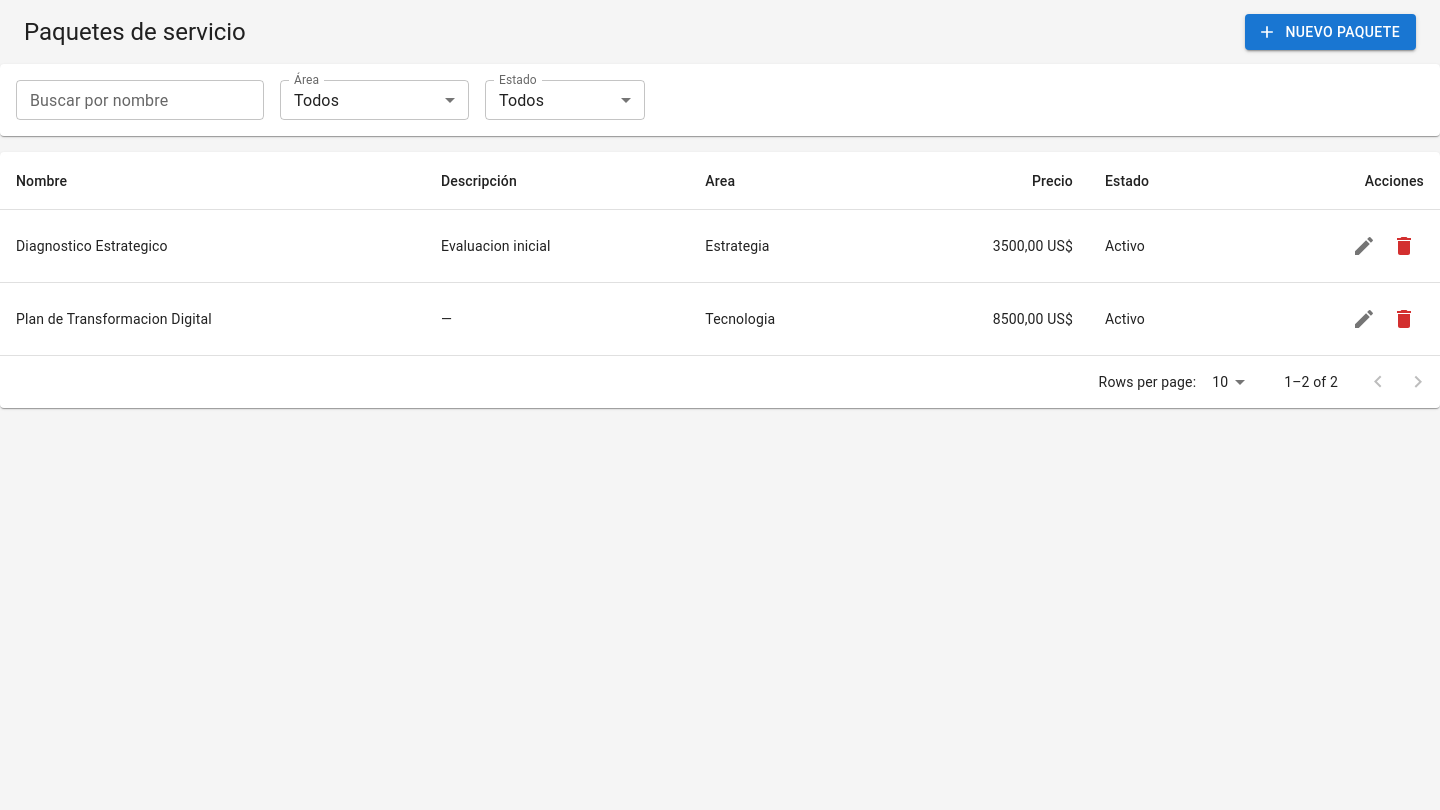
Test: PaquetesPage › shows an error toast when deleting a paquete fails
The width and height of the screenshot is (1440, 810).
Expected: the text "Diagnostico Estrategico" is shown, left=0, top=210, right=425, bottom=283
Click the button named "Eliminar paquete Diagnostico Estrategico" at (1404, 246), box left=1384, top=226, right=1424, bottom=266
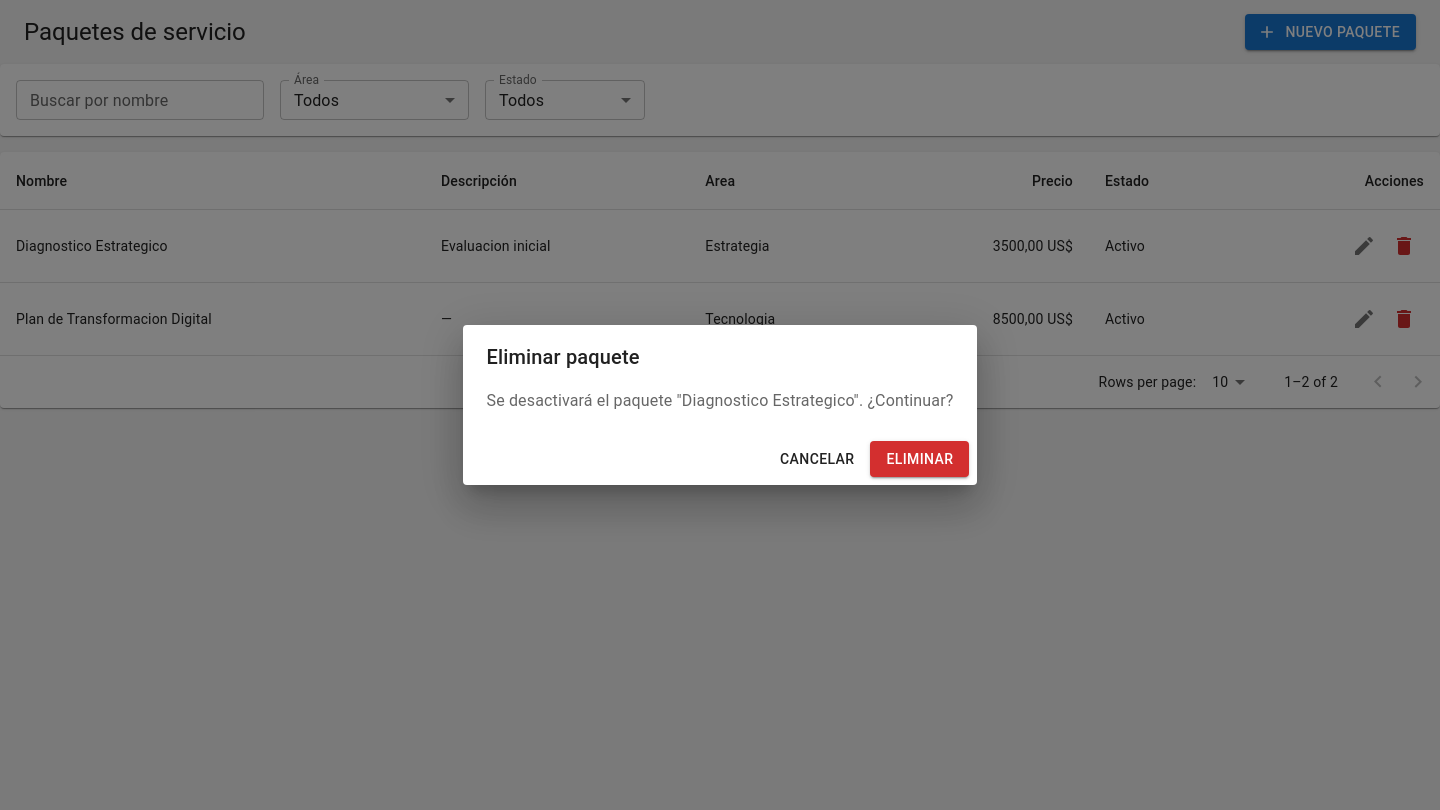
Click the button "Eliminar" at (920, 459), box left=870, top=441, right=970, bottom=477
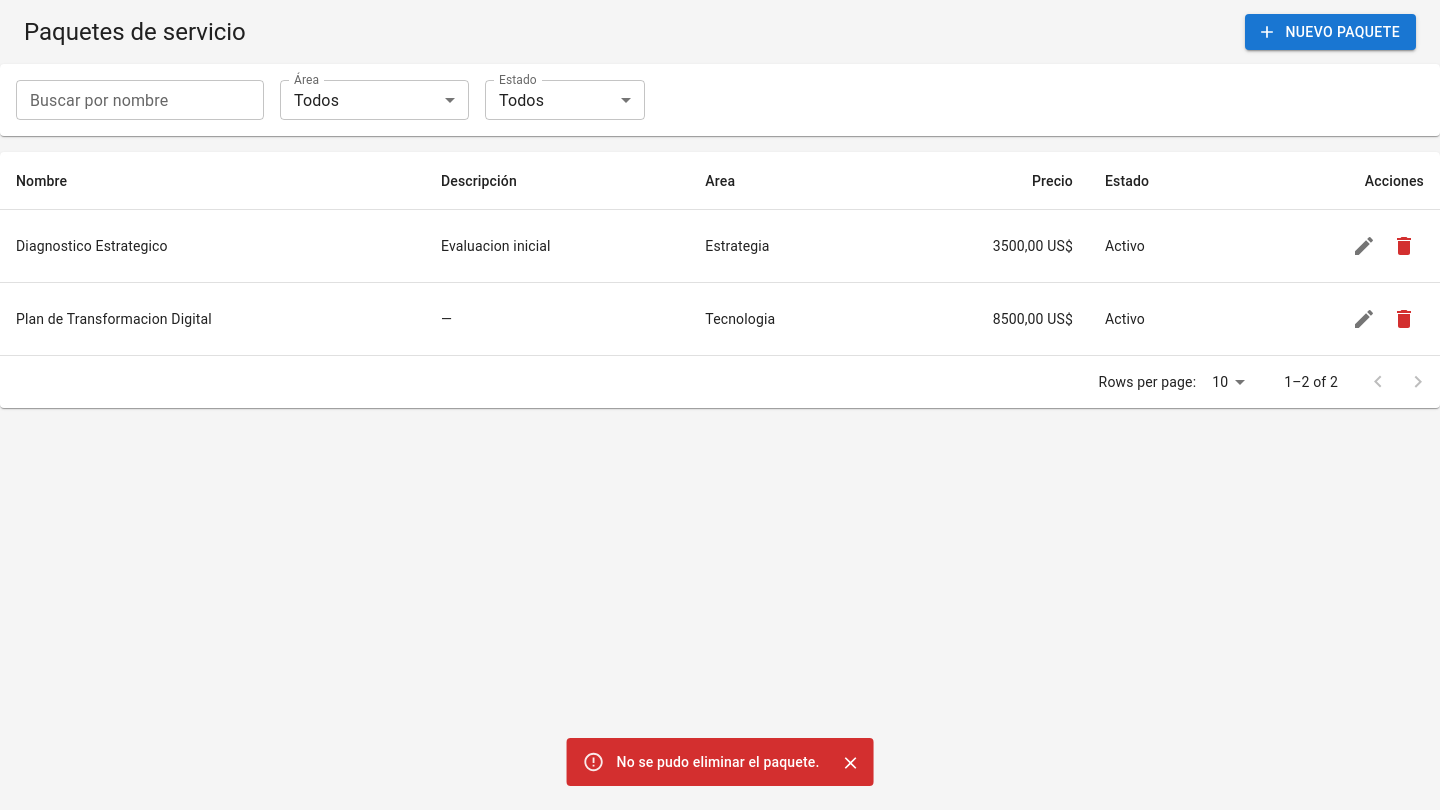
Expected: the text "No se pudo eliminar el paquete." is shown, left=616, top=754, right=819, bottom=770
